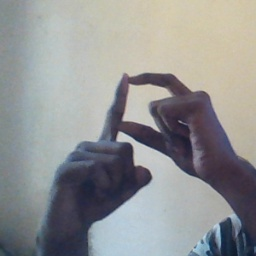D: (86, 62, 203, 178)
